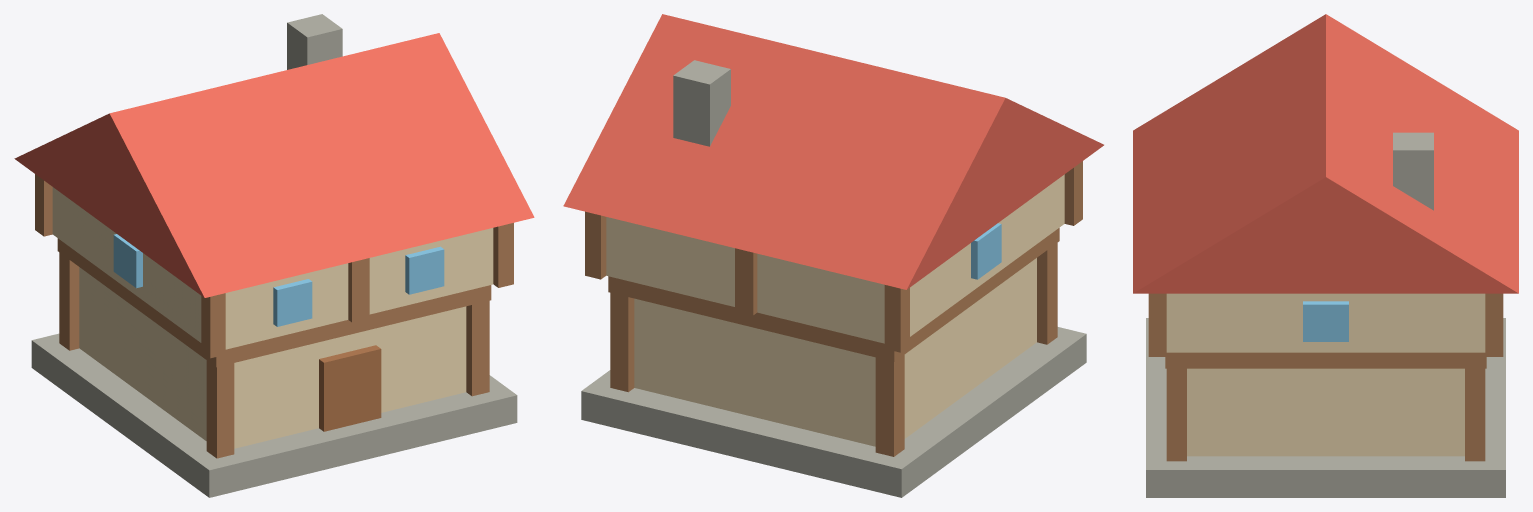
The model's file is house_t2_v1.glb.
3 renders of one model, left to right at view 1: azimuth 30°, elevation 25°; view 2: azimuth 150°, elevation 25°; view 3: azimuth 270°, elevation 25°, orthographic. The views are drawn at different scales.
Visible parts, largest first — view 1: house_t2_v1; view 2: house_t2_v1; view 3: house_t2_v1.
Boxes of the visible parts, <box> form: house_t2_v1: <box>14,14,534,497</box>; house_t2_v1: <box>563,14,1103,497</box>; house_t2_v1: <box>1133,14,1518,497</box>.
Bounding box in the file's own units: 0.75 × 0.7 × 0.75.
Materials: 1 (1 with a texture image).
